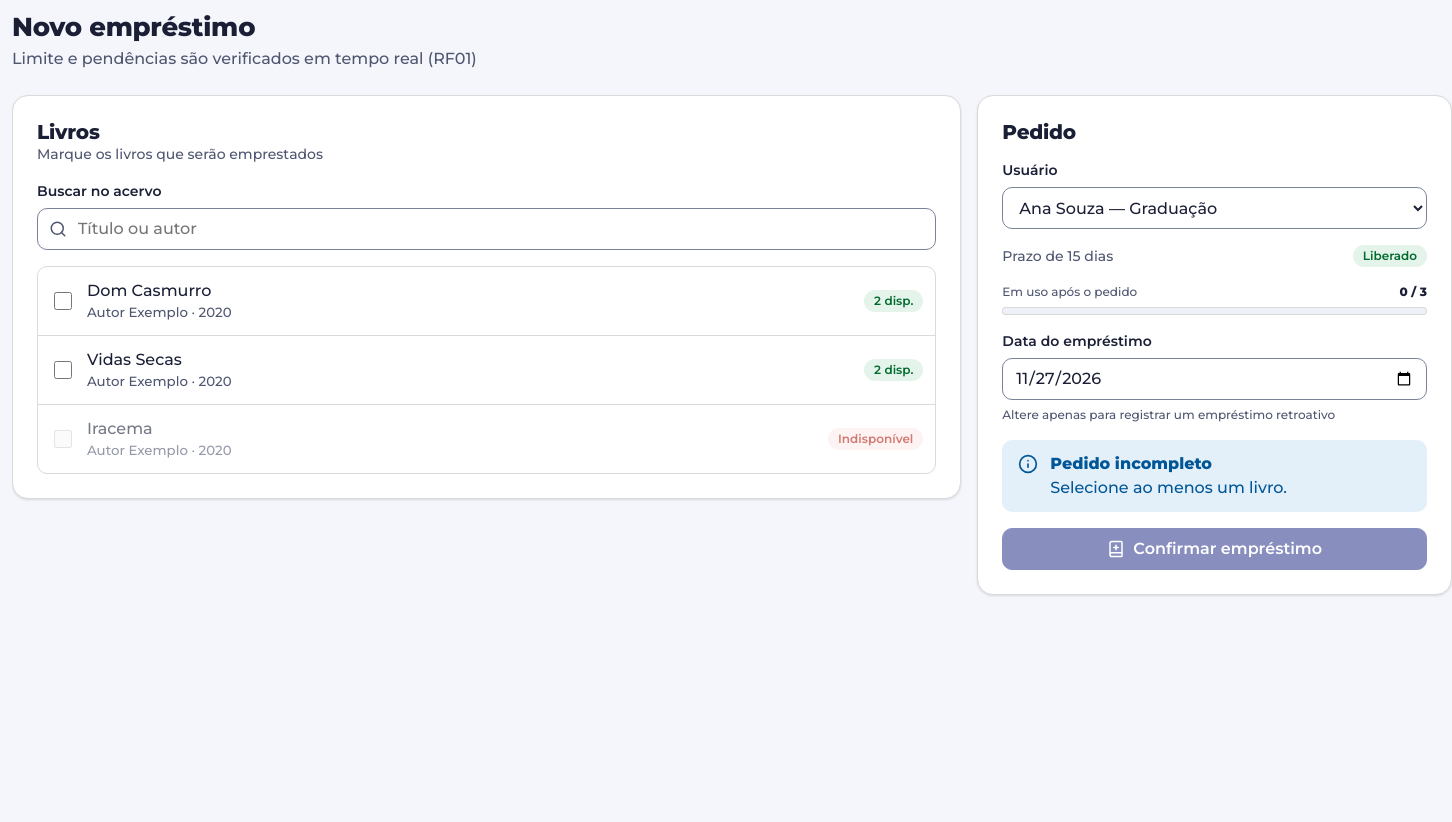
UI — Novo empréstimo (RF01 em tempo real) › UI11 — marcar livros mostra a data prevista calculada pelo domínio e envia o pedido
Check: the text "Dom Casmurro" is shown, box [87,281,211,300]
Click the checkbox labelled "Dom Casmurro Autor Exemplo · 2020 2 disp." at (63, 301), box [54,292,72,310]
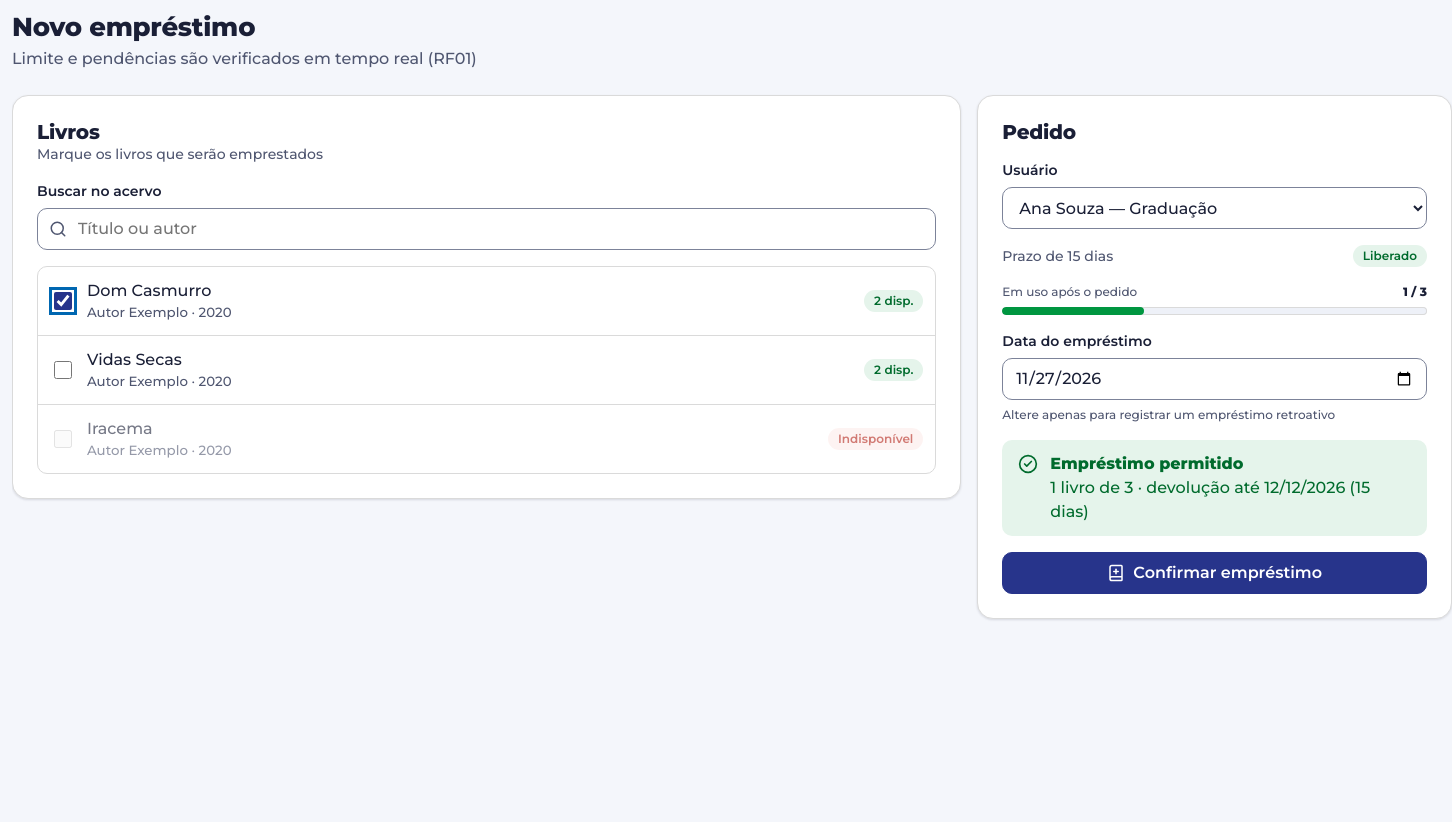
Click the button "Confirmar empréstimo" at (1215, 573), box [1002,552,1427,594]
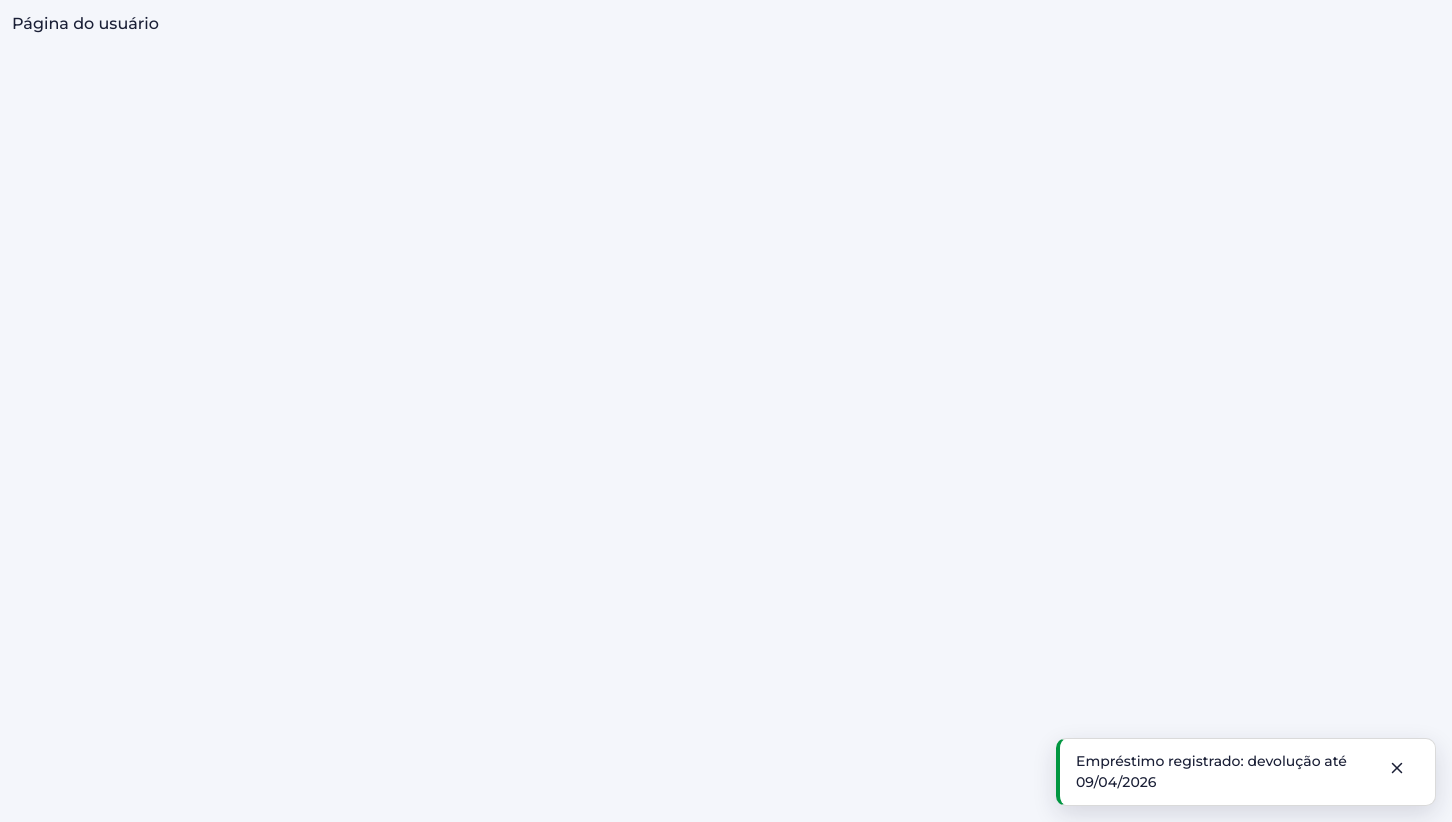
Check: the text "Página do usuário" is shown, box [12,14,159,33]
